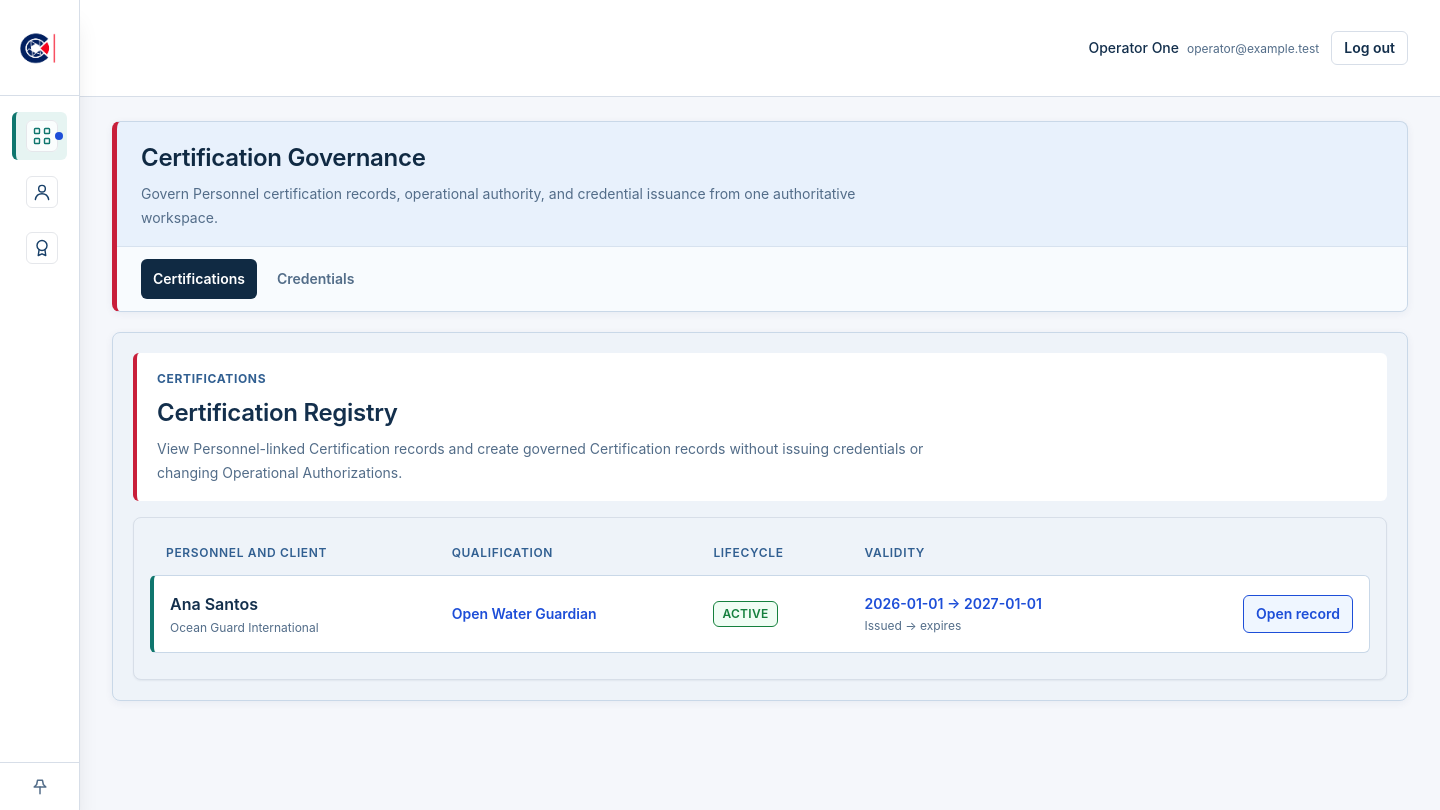
Test: Certification workspace frontend › renders neutral empty endorsement state and exposes Add Endorsement only with permission
This screenshot has width=1440, height=810.
Click the button with aria-label "View Certificate Details" at (1298, 614), box x1=1243 y1=595 x2=1353 y2=633
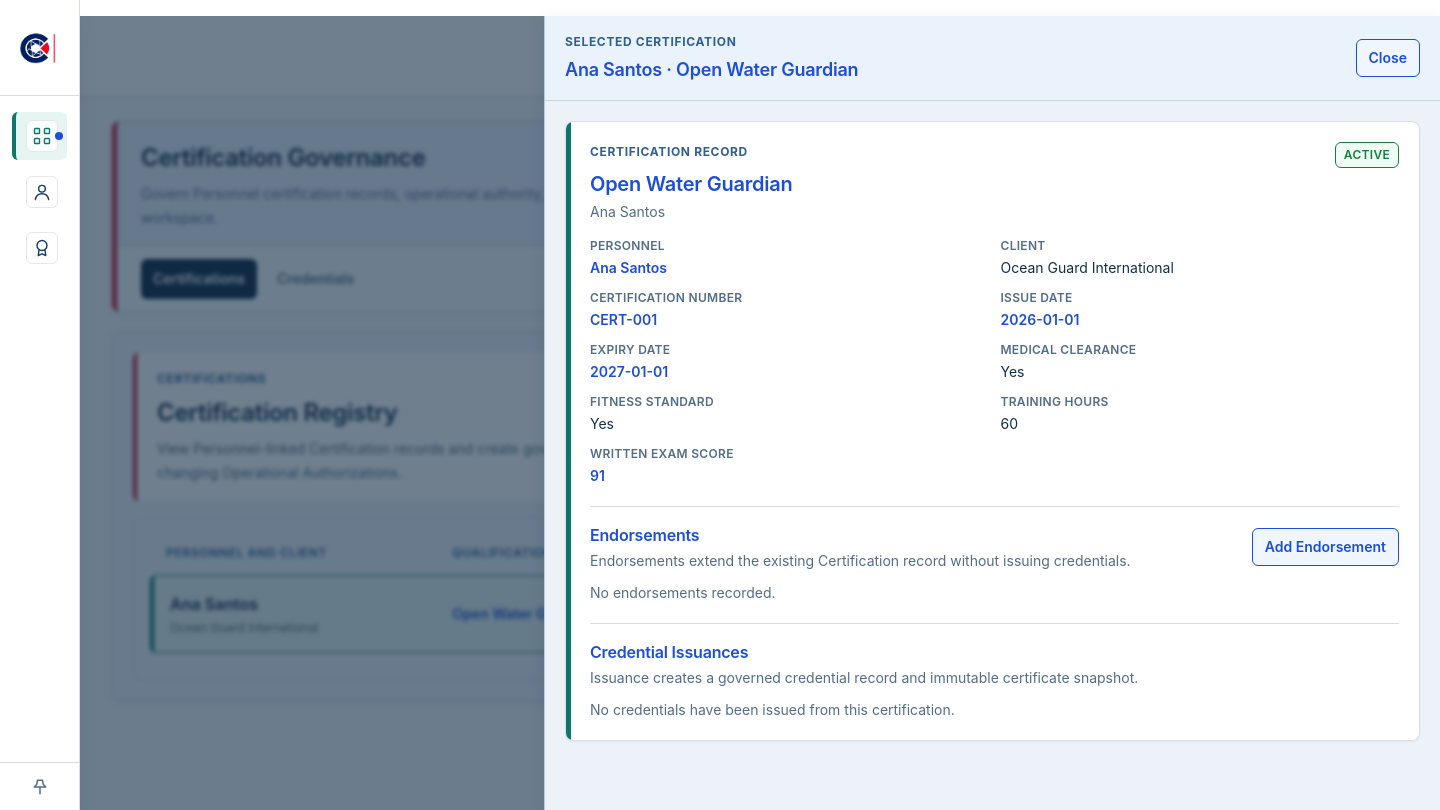
Now the text "No endorsements recorded." is shown, box x1=590 y1=584 x2=776 y2=601
Now the button "Add Endorsement" is shown, box x1=1252 y1=528 x2=1399 y2=566
